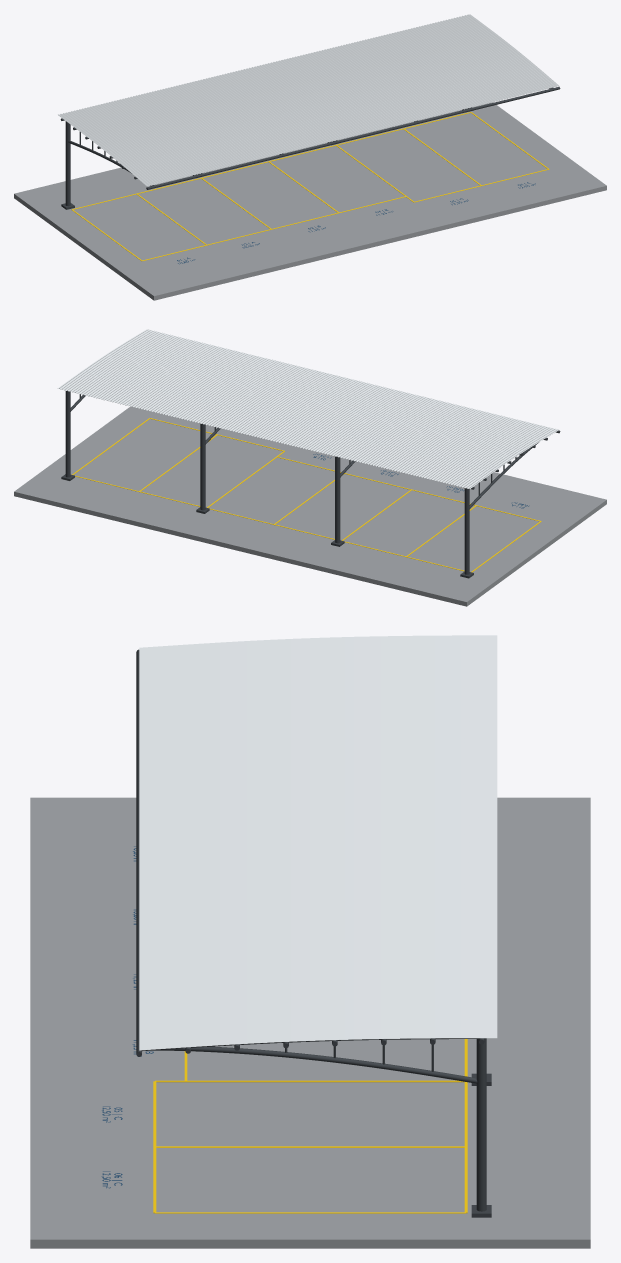
File: modelo.glb
The picture shows the model from 3 angles, top to bottom: view 1: azimuth 30°, elevation 25°; view 2: azimuth 150°, elevation 25°; view 3: azimuth 270°, elevation 25°; orthographic projection. The views are drawn at different scales.
Visible parts, largest first — view 1: Pavimento geral, Telhado continuo, Viga continua da fileira 8, Linha de fundo, Pilar compartilhado 0; view 2: Pavimento geral, Telhado continuo, Linha de fundo, Pilar compartilhado 2, Pilar compartilhado 6, Pilar compartilhado 0, Pilar compartilhado 4; view 3: Pavimento geral, Telhado continuo, Pilar compartilhado 6, Escora curva 6, Viga continua da fileira 8, Divisoria 4.
Boxes of the visible parts, bbox=[...] form: Pavimento geral: bbox=[14, 102, 606, 300]; Telhado continuo: bbox=[58, 14, 558, 186]; Viga continua da fileira 8: bbox=[146, 86, 560, 189]; Linha de fundo: bbox=[72, 112, 470, 209]; Pilar compartilhado 0: bbox=[65, 121, 70, 206]; Pavimento geral: bbox=[14, 406, 606, 606]; Telhado continuo: bbox=[57, 329, 558, 488]; Linha de fundo: bbox=[75, 475, 464, 571]; Pilar compartilhado 2: bbox=[335, 456, 340, 543]; Pilar compartilhado 6: bbox=[65, 391, 70, 477]; Pilar compartilhado 0: bbox=[464, 488, 469, 574]; Pilar compartilhado 4: bbox=[200, 423, 205, 510]; Pavimento geral: bbox=[30, 797, 590, 1248]; Telhado continuo: bbox=[139, 635, 497, 1050]; Pilar compartilhado 6: bbox=[476, 1038, 486, 1211]; Escora curva 6: bbox=[152, 1046, 477, 1083]; Viga continua da fileira 8: bbox=[136, 649, 141, 1056]; Divisoria 4: bbox=[155, 1080, 464, 1082].
Bounding box in the file's own units: 16.8 × 3.4 × 9.
